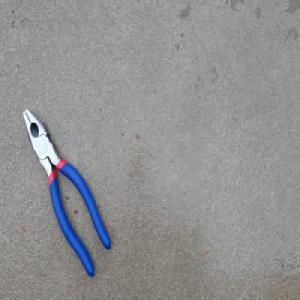Pliers: (22, 106, 112, 278)
